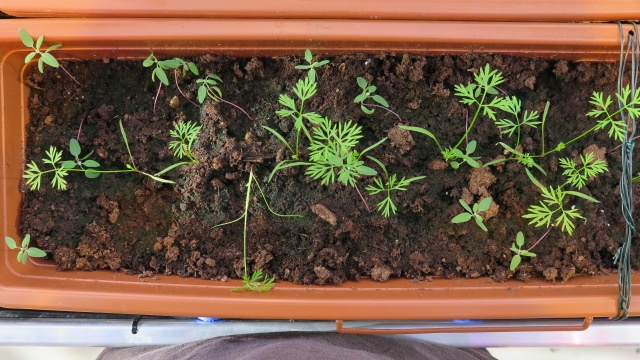weed: (14, 26, 67, 75), (446, 194, 496, 234), (4, 229, 48, 267), (504, 228, 540, 272)
